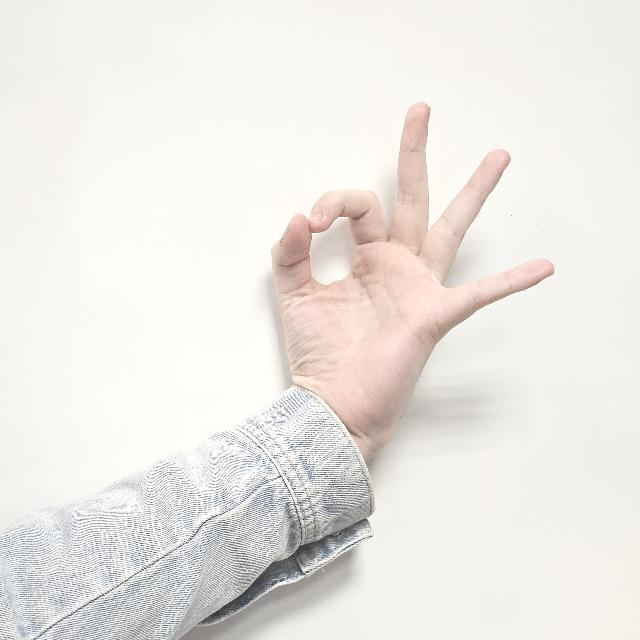Bolinha: (271, 99, 559, 438)
